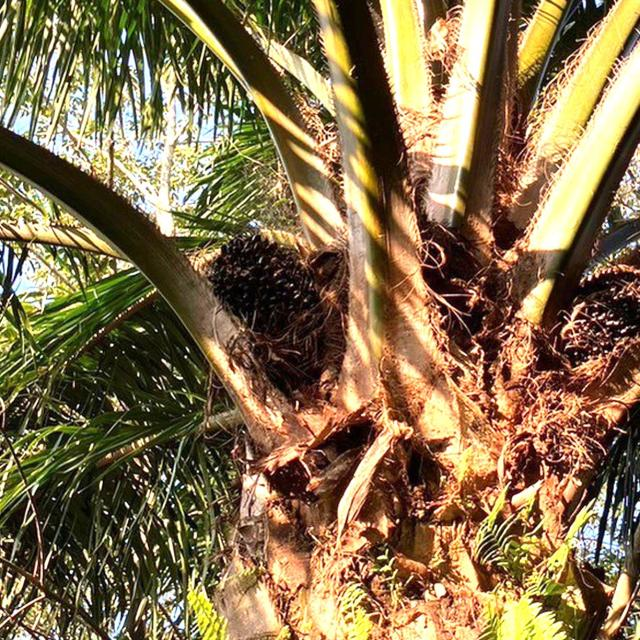almost: (193, 225, 342, 405)
